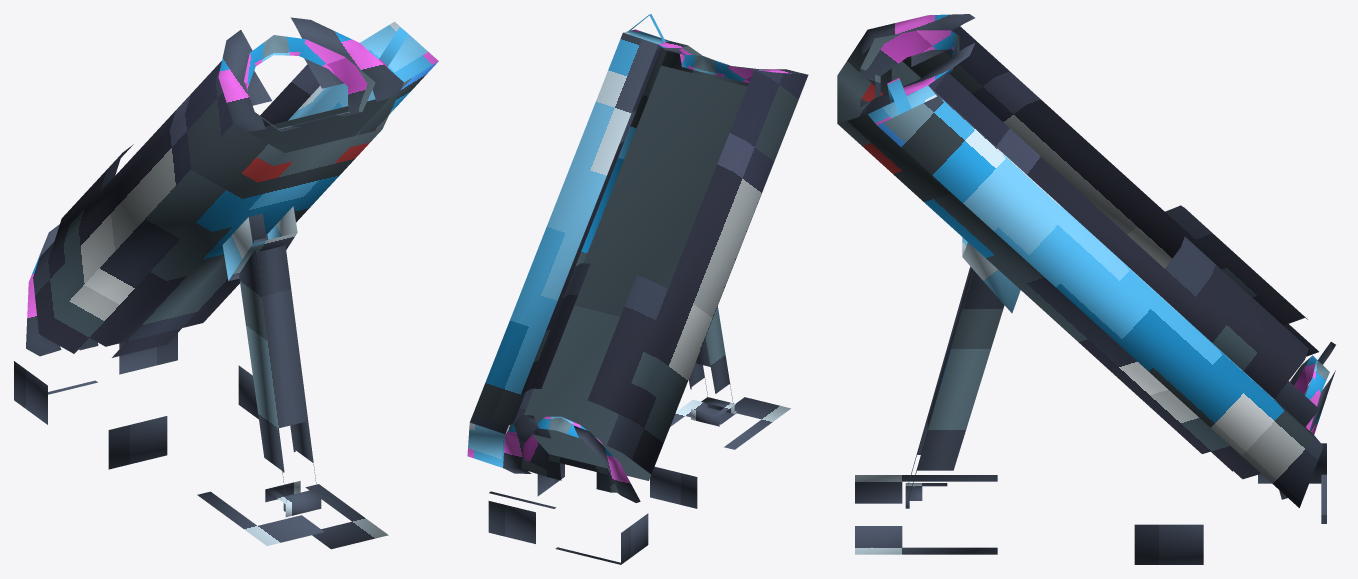
Rendered from ability_developer_block.obj.
The picture shows the model from 3 angles, left to right: view 1: azimuth 30°, elevation 25°; view 2: azimuth 150°, elevation 25°; view 3: azimuth 270°, elevation 25°; orthographic projection. The views are drawn at different scales.
Parts seen in each view (by area): view 1: ability_developer_block; view 2: ability_developer_block; view 3: ability_developer_block.
Part boxes in pixels (<box>): ability_developer_block: <box>14,17,438,549</box>; ability_developer_block: <box>467,14,808,564</box>; ability_developer_block: <box>837,14,1335,564</box>.
Bounding box in the file's own units: 1.28 × 2.86 × 2.63.
